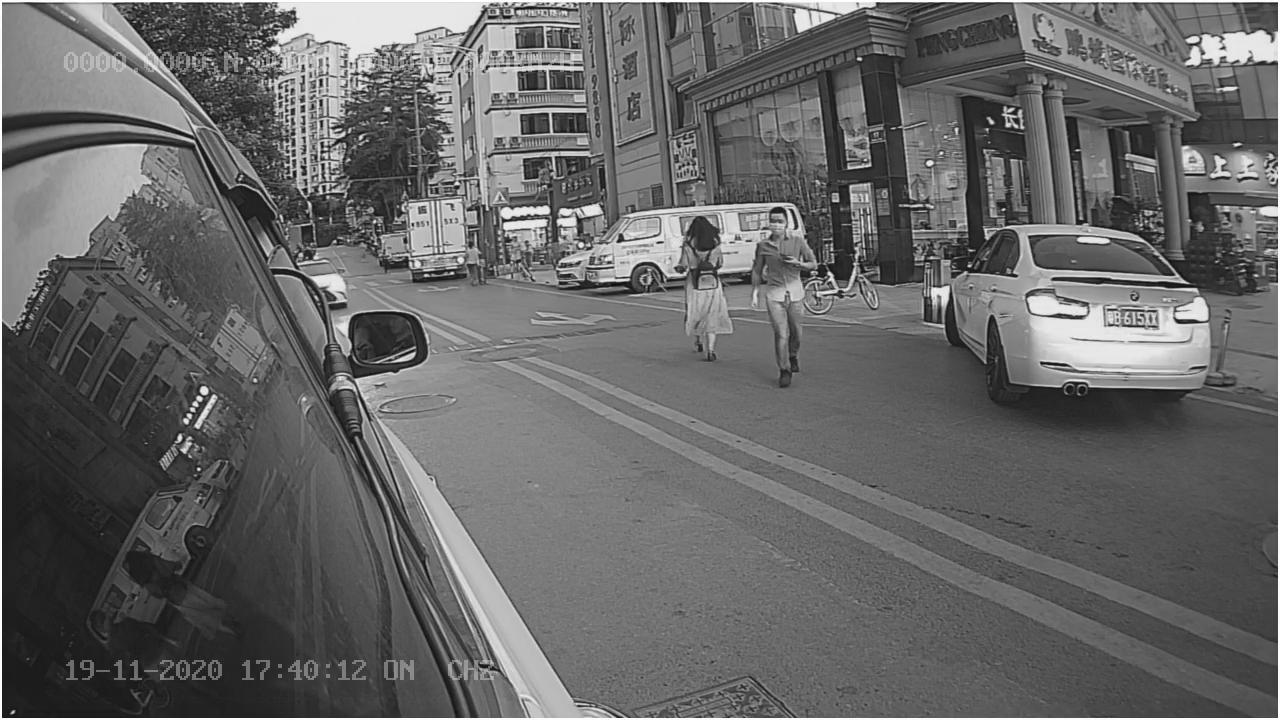person: (743, 199, 819, 394)
